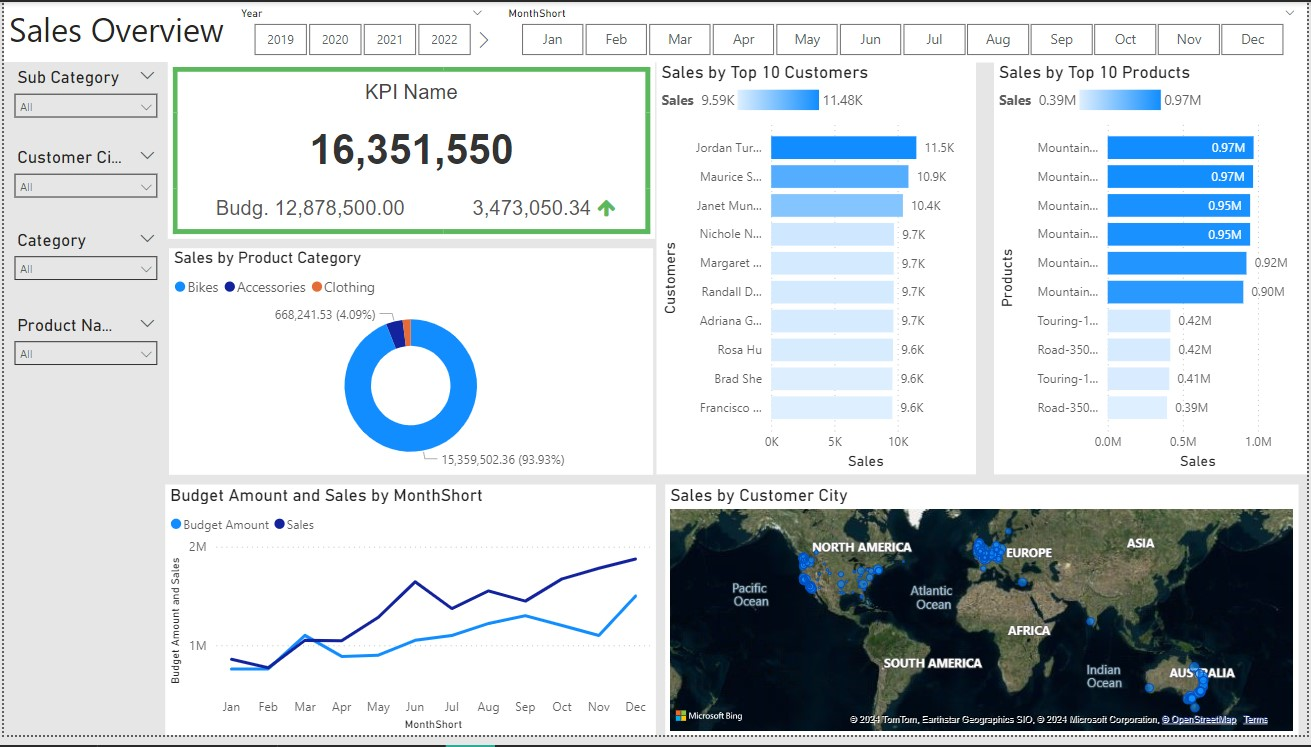

The page's visual inventory and layout, read from the dashboard file:
{"tool":"powerbi","page":{"name":"Sales Overview","canvas":[1280,720],"ordinal":0},"visuals":[{"type":"textbox","box":[0,0,1279.8,58.9],"z":0},{"type":"slicer","fields":{"Values":["DIM_Product.Sub Category"]},"box":[0,58.9,160.7,67.5],"z":1000},{"type":"slicer","fields":{"Values":["DIM_Customer.Customer City"]},"box":[0,137.4,160.7,67.5],"z":2000},{"type":"slicer","fields":{"Values":["DIM_Product.Product Category"]},"box":[0,218.4,160.7,67.5],"z":3000},{"type":"slicer","fields":{"Values":["DIM_Product.Product Name"]},"box":[0,301.8,160.7,72.4],"z":4000},{"type":"slicer","fields":{"Values":["DIM_Calendar.Year"]},"box":[219.6,0,262.6,58.9],"z":5000},{"type":"slicer","fields":{"Values":["DIM_Calendar.MonthShort"]},"box":[482.2,0,797.6,58.9],"z":6000},{"type":"BBED0A4D4D8D44CE93CF2DAFADEE466C","fields":{"actual":["FACT_InternetSales.Sales"],"target2":["Key Measures.Sales - Budget Amount"],"target1":["Key Measures.Budget Amount"]},"box":[161.2,58.8,478.8,173.8],"z":7000},{"type":"donutChart","fields":{"Category":["DIM_Product.Product Category"],"Y":["Key Measures.Sales"]},"box":[162.5,241.2,475,222.5],"z":8000},{"type":"lineChart","fields":{"Y":["Key Measures.Budget Amount","Key Measures.Sales"],"Category":["DIM_Calendar.MonthShort"]},"box":[158.8,473.8,481.2,246.2],"z":9000},{"type":"barChart","title":"Sales by Top 10 Customers","fields":{"Y":["Key Measures.Sales"],"Category":["DIM_Customer.Full Name"]},"box":[640,58.8,313.8,405],"z":10000},{"type":"barChart","title":"Sales by Top 10 Products","fields":{"Y":["Key Measures.Sales"],"Category":["DIM_Product.Product Name"]},"box":[971.8,58.9,308,404.9],"z":11000},{"type":"map","fields":{"Category":["DIM_Customer.Customer City"],"Size":["Key Measures.Sales"]},"box":[648.8,473.8,621.2,246.2],"z":12000}]}

Visuals, with their boxes in screenshot pixels (x1, y1, x2, y2), scaled from the page's 1280x720 canvas onto the 1311x747 screenshot:
textbox: left=0, top=0, right=1310, bottom=61
slicer - DIM_Product.Sub Category: left=0, top=61, right=165, bottom=131
slicer - DIM_Customer.Customer City: left=0, top=143, right=165, bottom=213
slicer - DIM_Product.Product Category: left=0, top=227, right=165, bottom=297
slicer - DIM_Product.Product Name: left=0, top=313, right=165, bottom=388
slicer - DIM_Calendar.Year: left=225, top=0, right=494, bottom=61
slicer - DIM_Calendar.MonthShort: left=494, top=0, right=1310, bottom=61
BBED0A4D4D8D44CE93CF2DAFADEE466C - FACT_InternetSales.Sales x Key Measures.Sales - Budget Amount: left=165, top=61, right=656, bottom=241
donutChart - DIM_Product.Product Category x Key Measures.Sales: left=166, top=250, right=653, bottom=481
lineChart - Key Measures.Budget Amount x Key Measures.Sales: left=163, top=492, right=656, bottom=746
"Sales by Top 10 Customers" barChart: left=656, top=61, right=977, bottom=481
"Sales by Top 10 Products" barChart: left=995, top=61, right=1310, bottom=481
map - DIM_Customer.Customer City x Key Measures.Sales: left=665, top=492, right=1301, bottom=746
